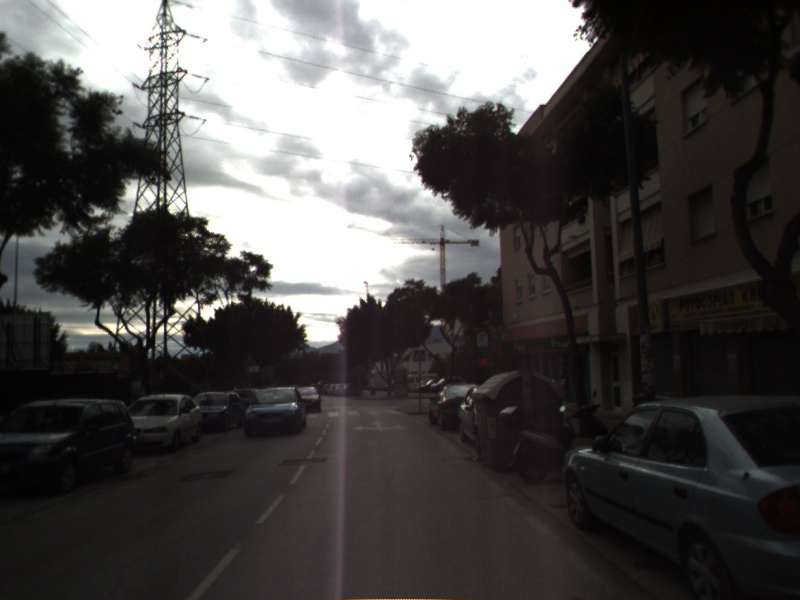STRAIGHT_LEFT_RIGHT: (351, 417, 409, 433)
